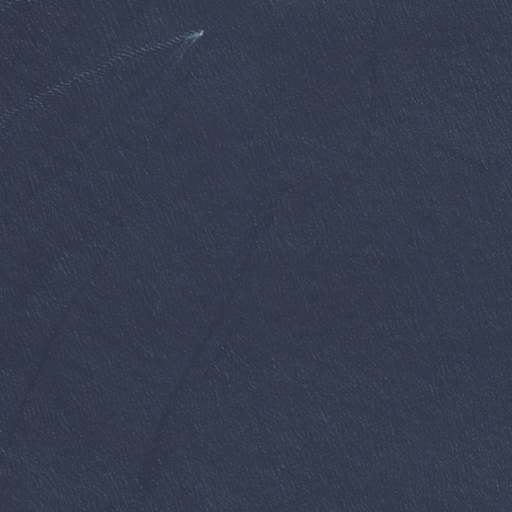ship: (198, 28, 205, 38)
